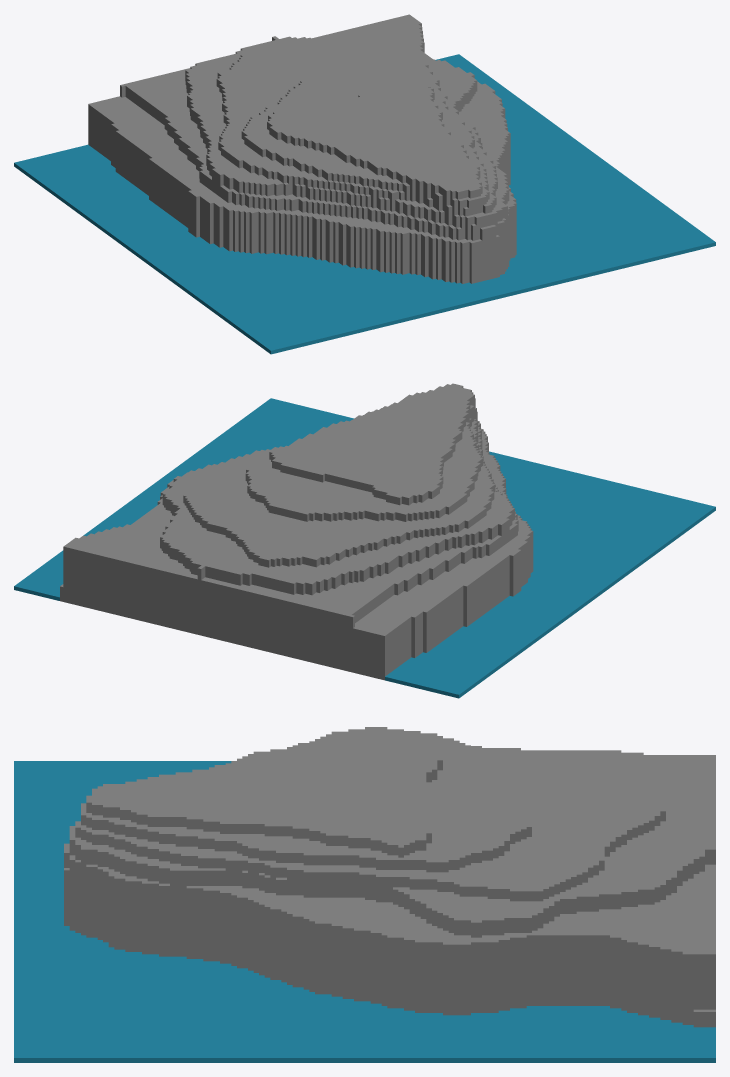
The model's file is Light House-1.obj.
3 renders of one model, top to bottom at view 1: azimuth 30°, elevation 25°; view 2: azimuth 150°, elevation 25°; view 3: azimuth 270°, elevation 25°, orthographic. The views are drawn at different scales.
Parts seen in each view (by area): view 1: Light House-1; view 2: Light House-1; view 3: Light House-1.
Boxes of the visible parts, box(x1,y1,x2,y2) form: Light House-1: box(14, 14, 715, 354); Light House-1: box(14, 383, 715, 698); Light House-1: box(14, 727, 715, 1062).
Size of the model in its own units: 126 by 24 by 126.
1 material, 1 textured.
